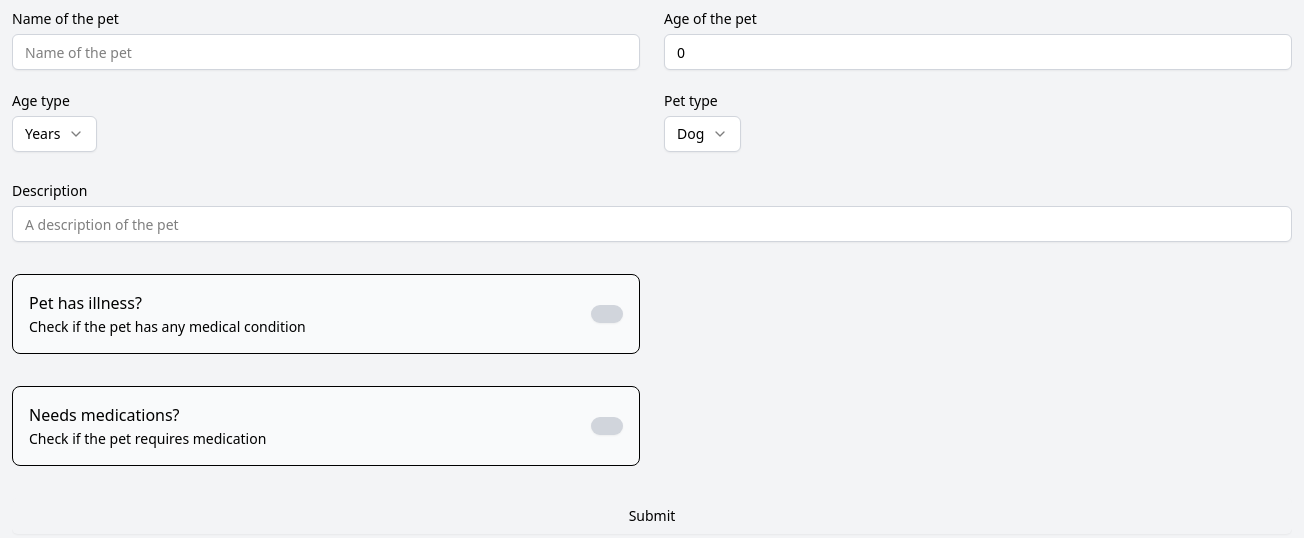
Test: Post pet form tests › Should parse age input correctly with parseInt
Replace the text in the number field with placeholder "Age" with "5": (978, 52) [664,34,1292,70]
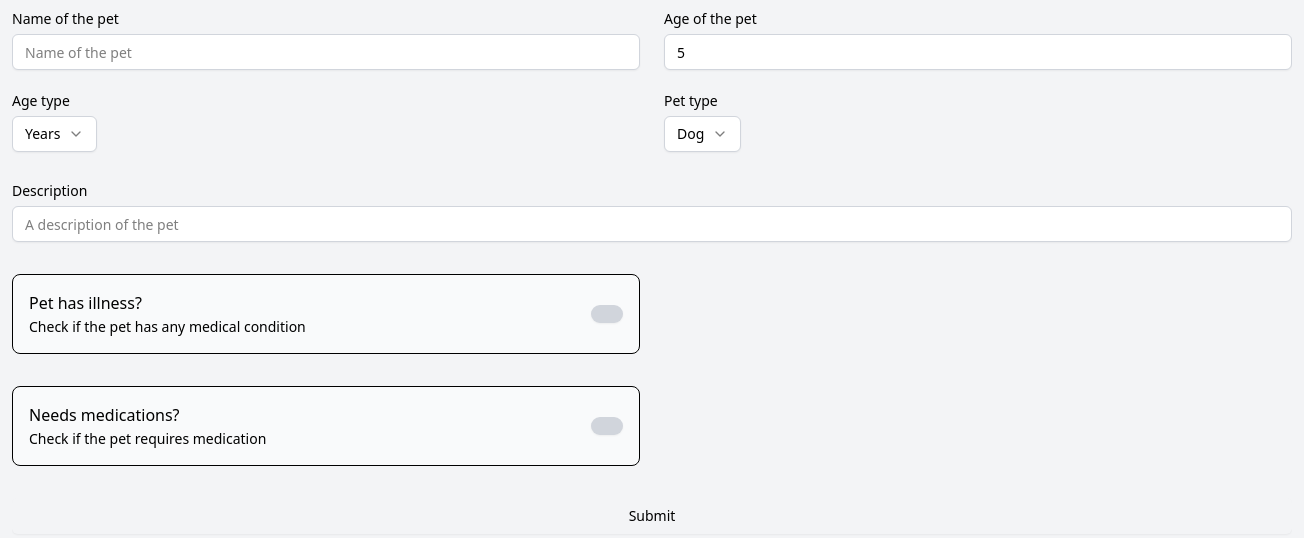
Replace the text in the number field with placeholder "Age" with "abc": (978, 52) [664,34,1292,70]
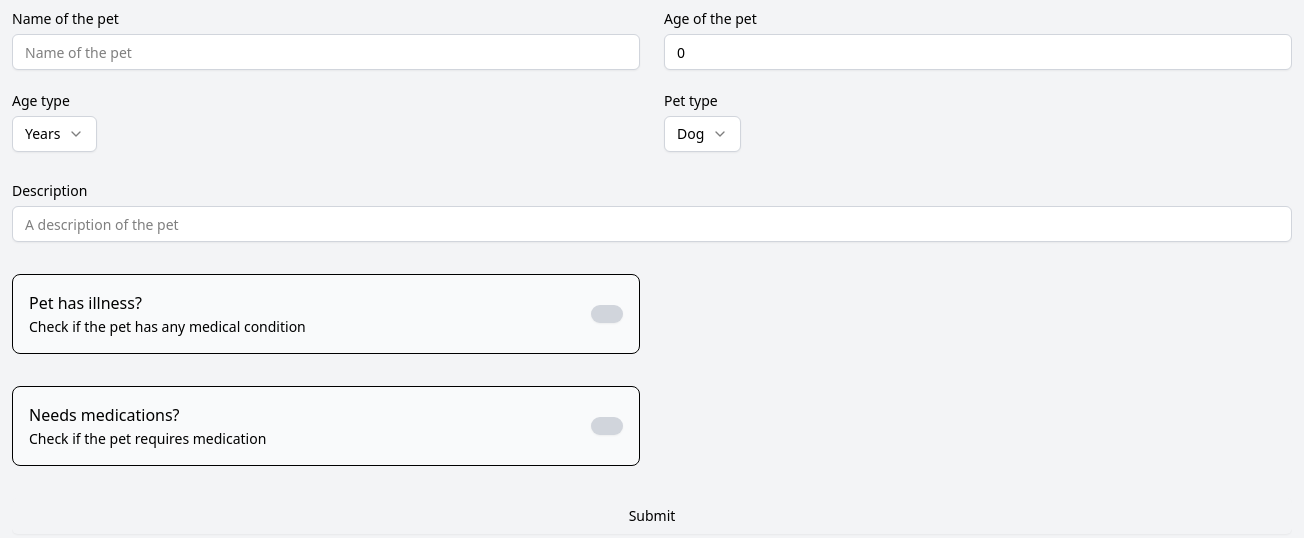
Check: the number field with placeholder "Age" holds "0", box [664,34,1292,70]
